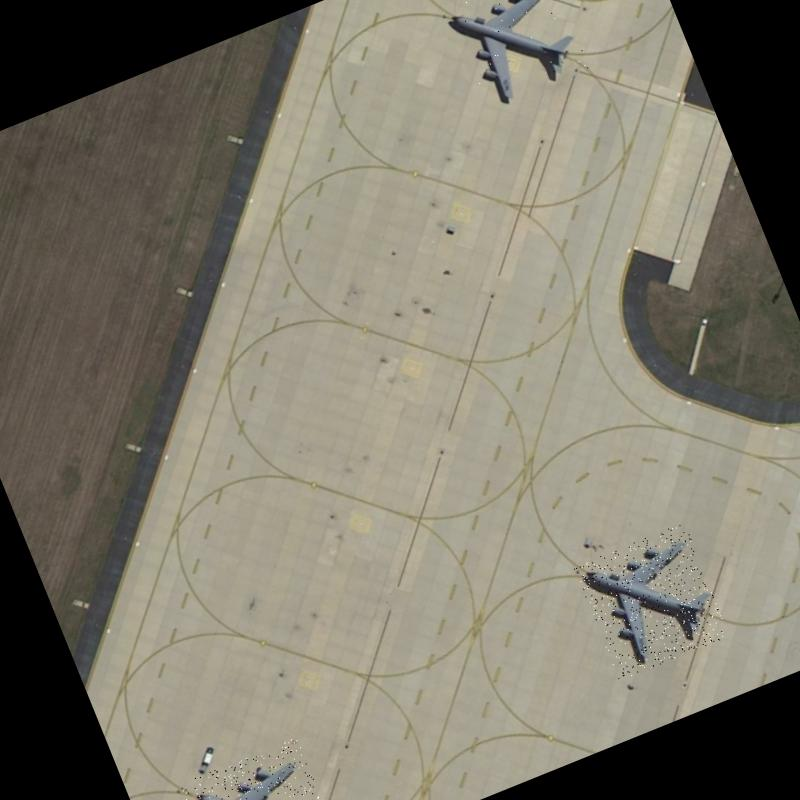A14: (573, 522, 730, 680), (441, 0, 594, 115), (179, 736, 343, 800)
